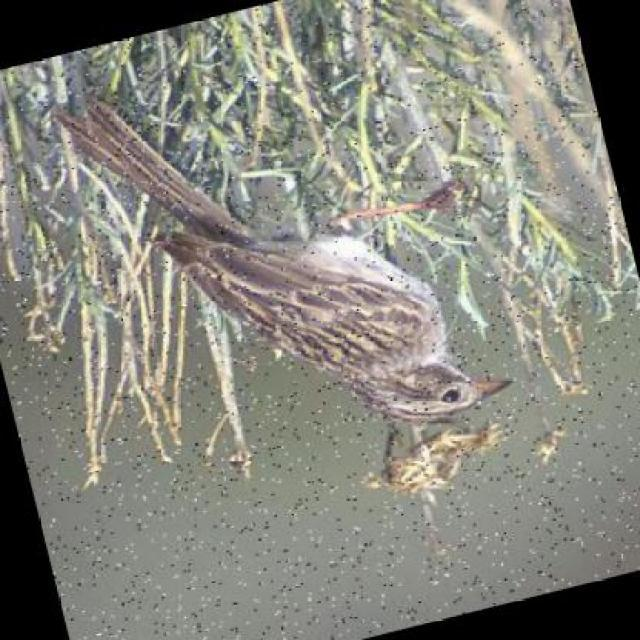Bird: (52, 91, 506, 428)
